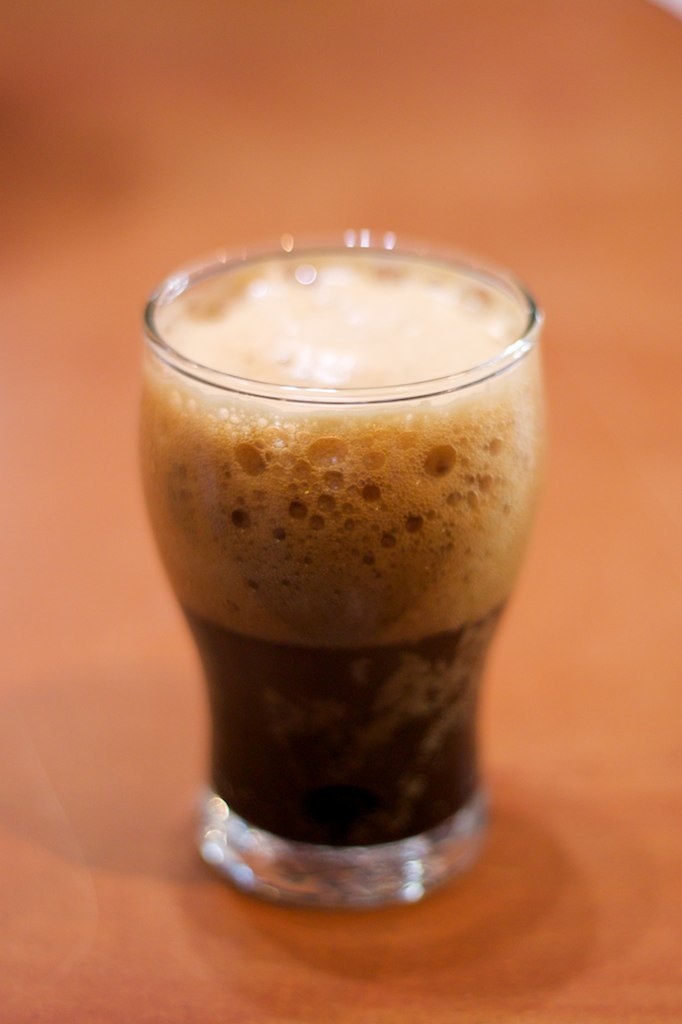Beer: (148, 275, 546, 844)
